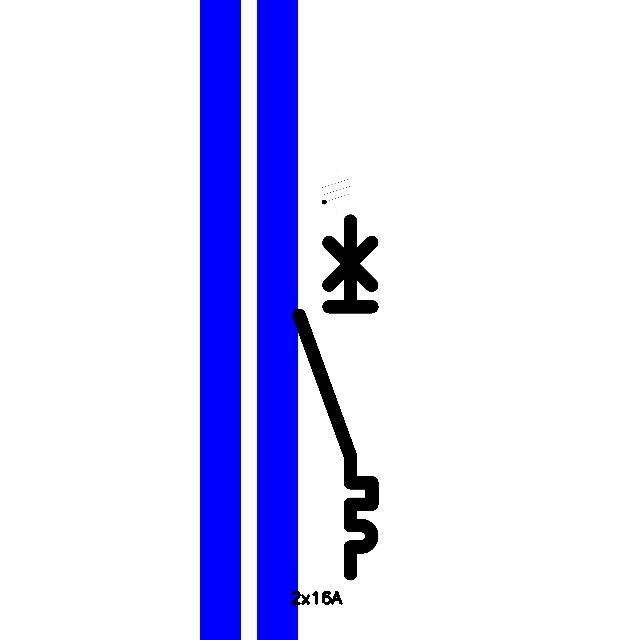interruptor_termomagnetico: (290, 212, 381, 583)
